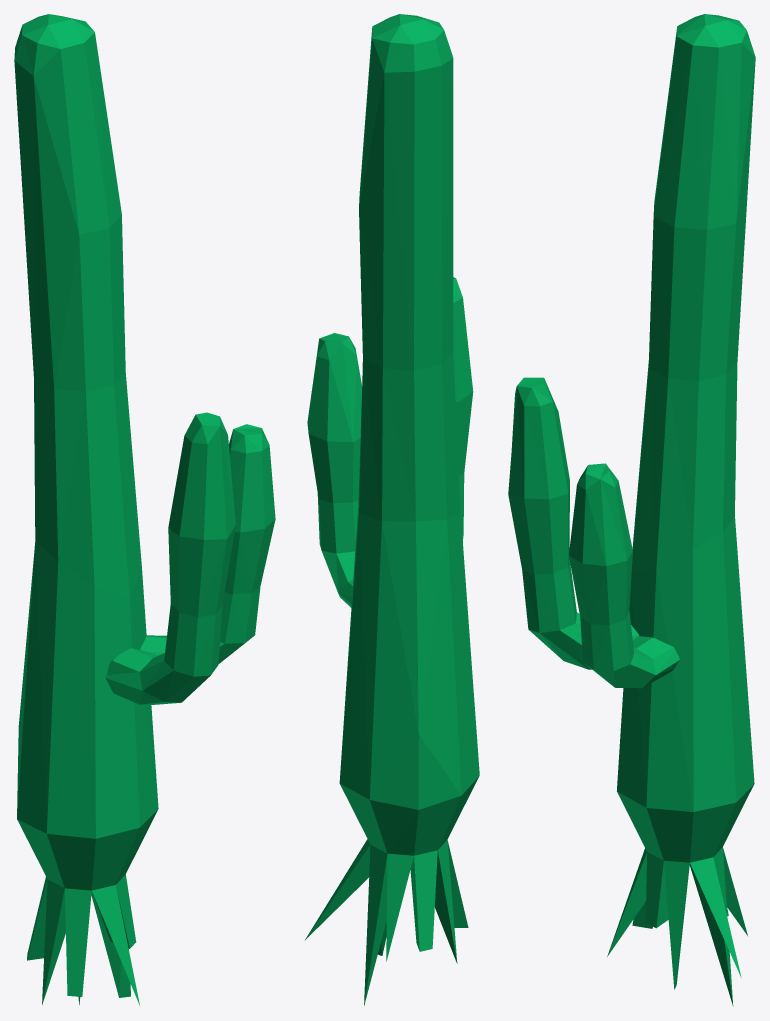
Rendered from SeguaroCactusLarge1_LOD1.fbx.
The picture shows the model from 3 angles, left to right: view 1: azimuth 30°, elevation 25°; view 2: azimuth 150°, elevation 25°; view 3: azimuth 270°, elevation 25°; orthographic projection. The views are drawn at different scales.
Visible parts, largest first — view 1: SeguaroCactusLarge1_LOD1; view 2: SeguaroCactusLarge1_LOD1; view 3: SeguaroCactusLarge1_LOD1.
Boxes of the visible parts, x1,y1,x2,y2 form: SeguaroCactusLarge1_LOD1: (14, 14, 275, 1005); SeguaroCactusLarge1_LOD1: (304, 14, 479, 1005); SeguaroCactusLarge1_LOD1: (508, 14, 755, 1006).
Size of the model in its own units: 118 by 510 by 108.
